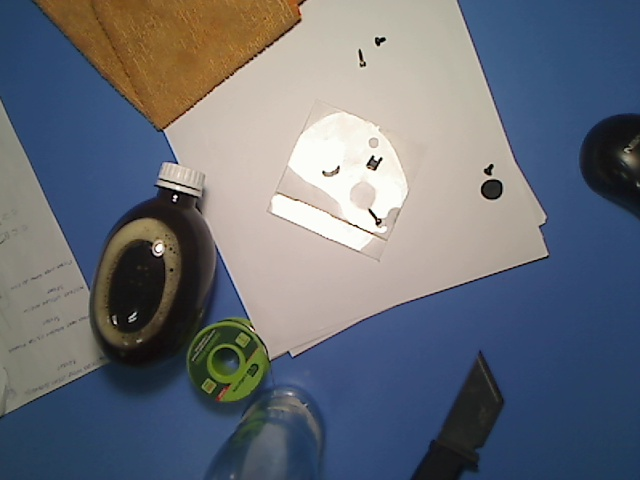plast_bottle: (85, 153, 227, 376)
